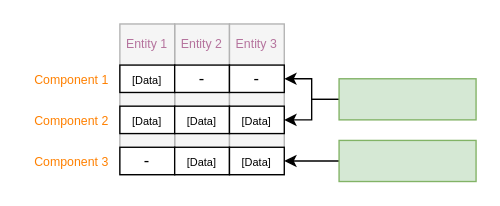
Some shapes in this 500 by 206 pixel diagram are drawn without their labels. Each missing label, with the centre of its shape:
System 1 <C1, const C2>: the point at 407,98
System 2 <C3>: the point at 407,160
